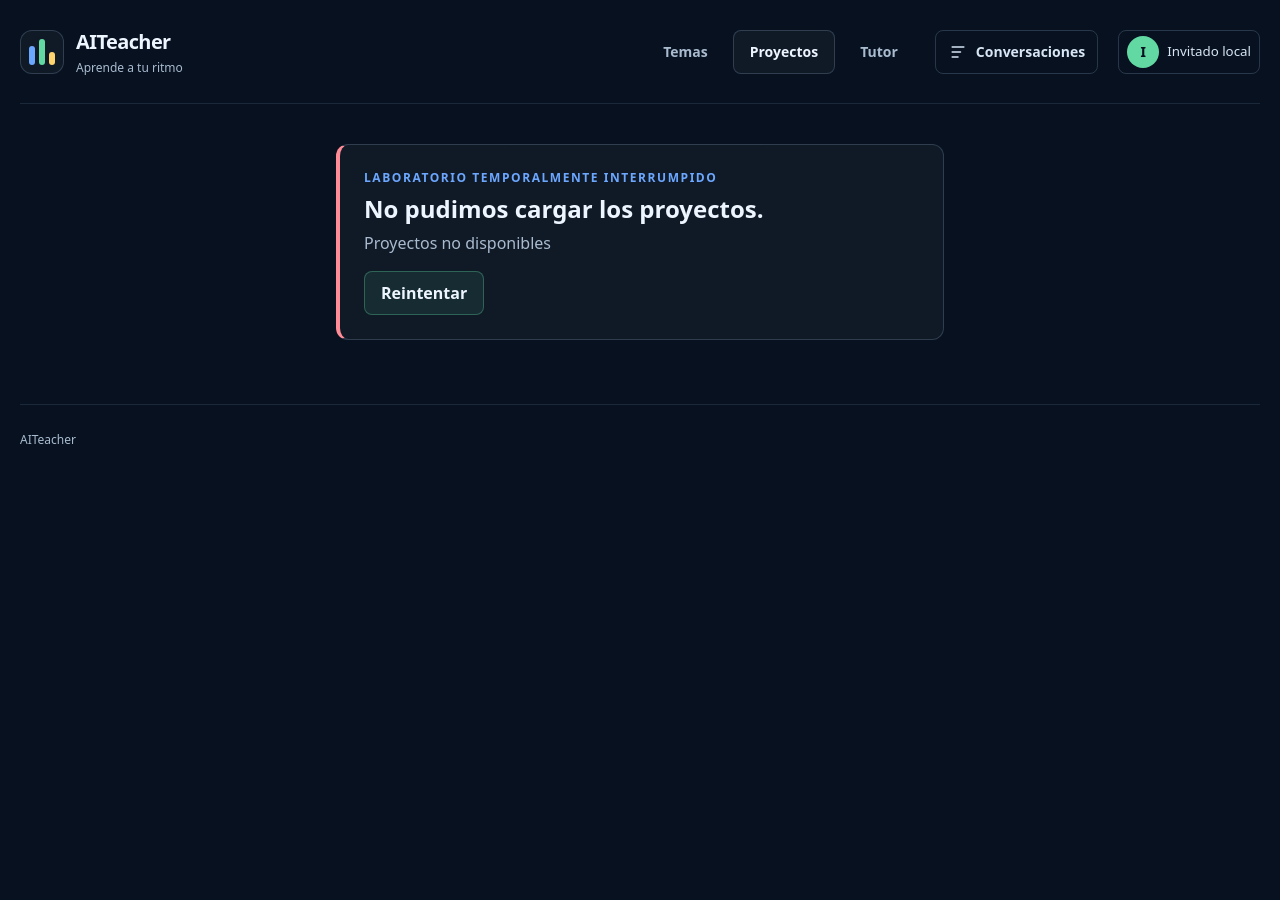
ProjectsScreen › muestra estados vacío y de error con recuperación
The width and height of the screenshot is (1280, 900).
expect the message shows "Proyectos no disponibles": met, box [364,232,551,254]
Click the button "Reintentar".
click(424, 293)  # box [364,271,484,315]
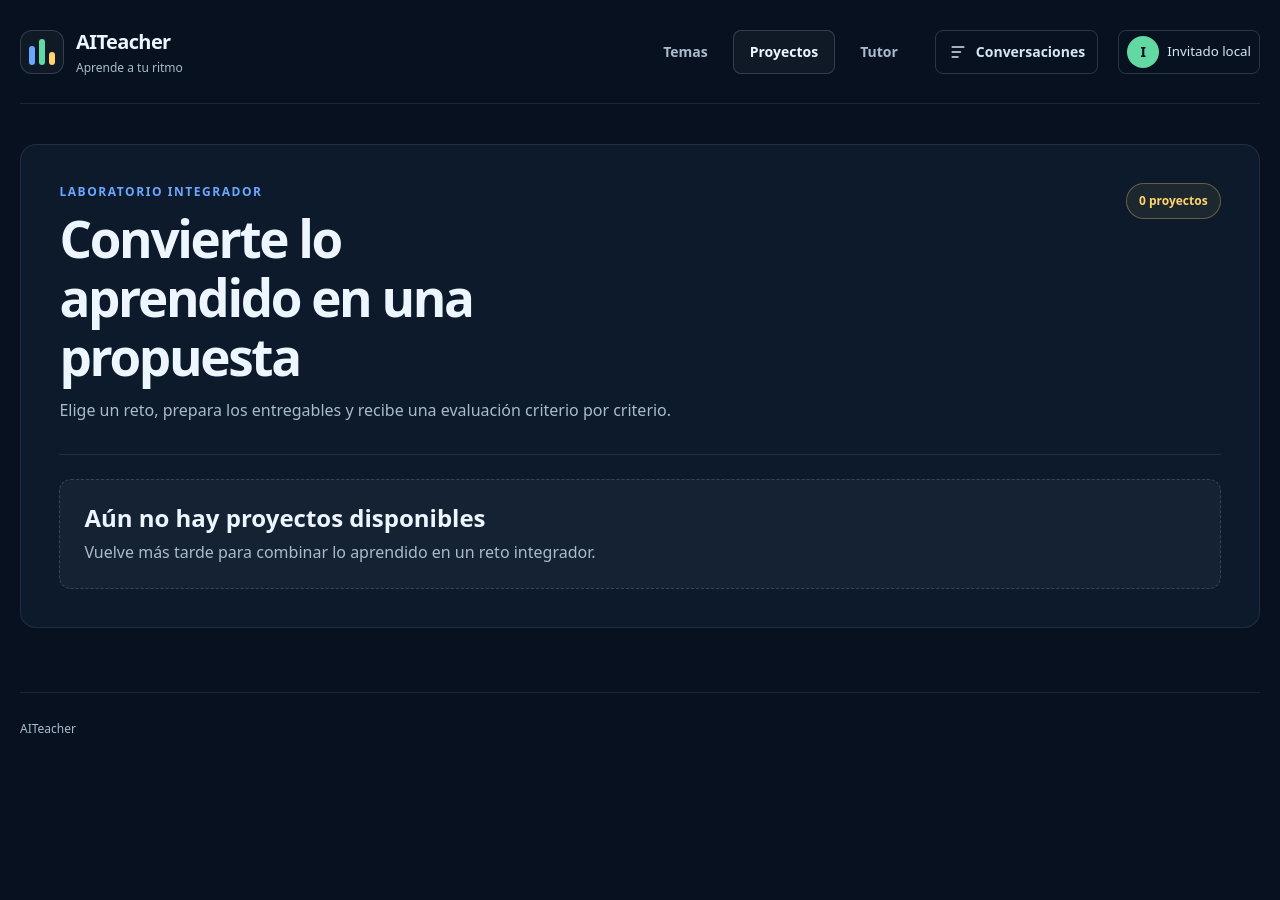
expect the heading "Aún no hay proyectos disponibles" is shown: met, box [84,501,486,534]
